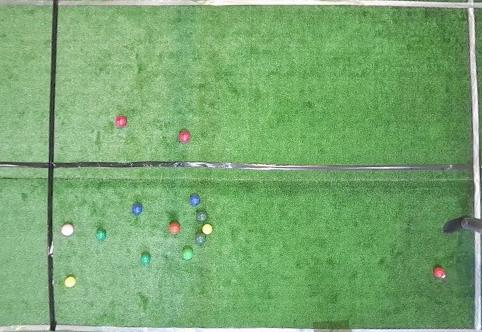blue: (189, 194, 201, 206), (132, 204, 143, 214)
green: (181, 248, 194, 260), (195, 233, 206, 244), (197, 212, 208, 222), (141, 253, 151, 264), (96, 229, 106, 240)
red: (61, 224, 74, 236), (179, 130, 190, 143), (433, 266, 445, 277), (169, 222, 180, 234), (116, 115, 127, 127)
vline: (1, 0, 59, 331), (467, 0, 481, 221), (472, 233, 481, 332)
white: (442, 274, 446, 278)
yellow: (64, 276, 77, 287), (202, 224, 212, 235)
